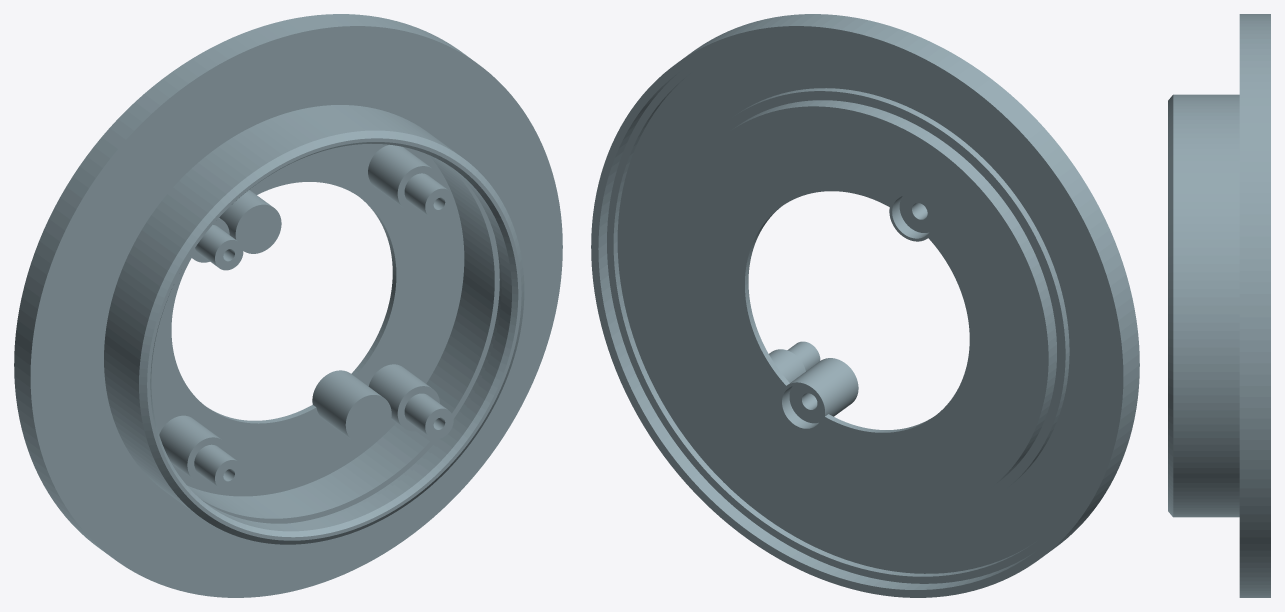
File: Stationary_Housing.obj
3 views of the same model, side by side, from view 1: azimuth 30°, elevation 25°; view 2: azimuth 150°, elevation 25°; view 3: azimuth 270°, elevation 25° (orthographic). The views are drawn at different scales.
Visible parts, largest first — view 1: Stationary_Housing; view 2: Stationary_Housing; view 3: Stationary_Housing.
Part boxes in pixels (x1,y1,x2,y2): Stationary_Housing: (14, 14, 562, 597); Stationary_Housing: (591, 14, 1139, 597); Stationary_Housing: (1168, 14, 1270, 597).
Bounding box in the file's own units: 58 × 57.99 × 10.2.
